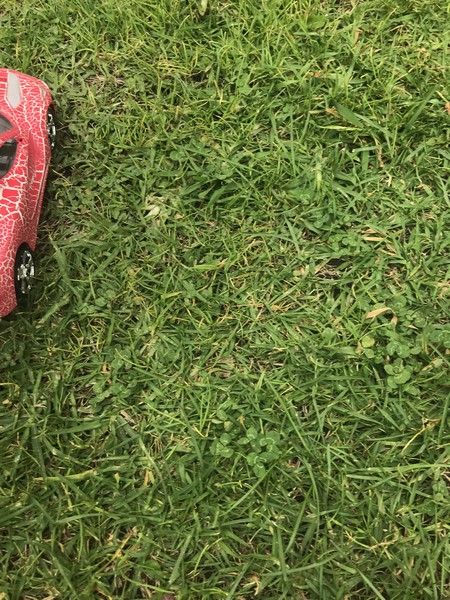RC: (1, 63, 57, 315)
